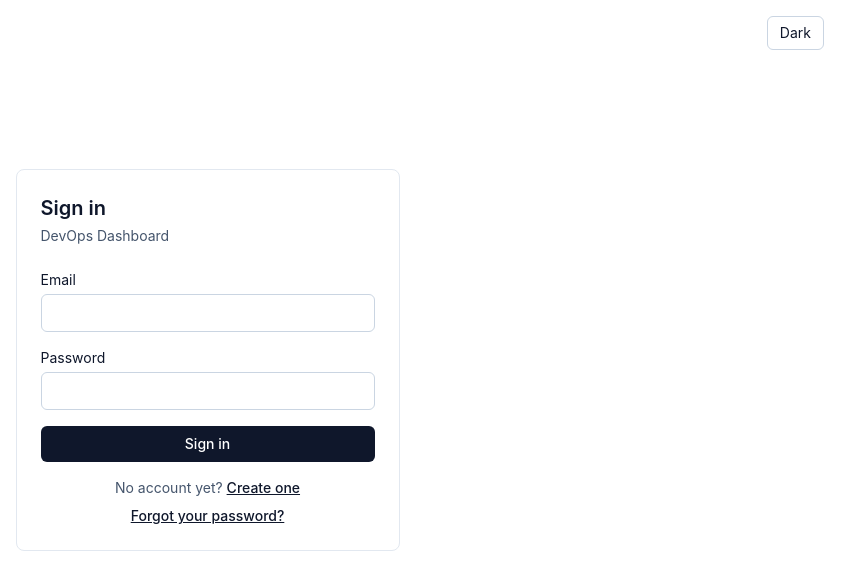
Test: authentication flow › password reset › asks for a reset link from the login page
Click the link "Forgot your password?" at (208, 516), box left=131, top=507, right=284, bottom=524
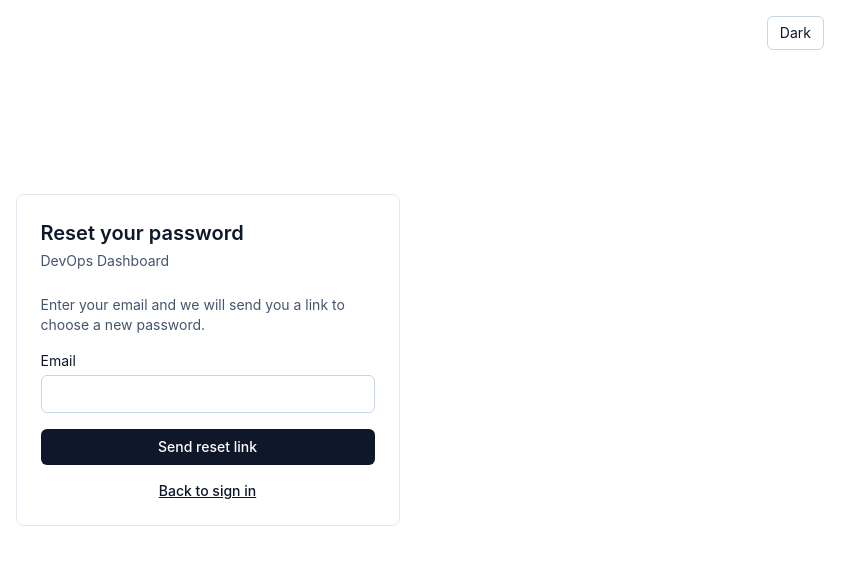
Type "demo@example.com" into the field labelled "Email" at (208, 394), box left=40, top=375, right=374, bottom=413
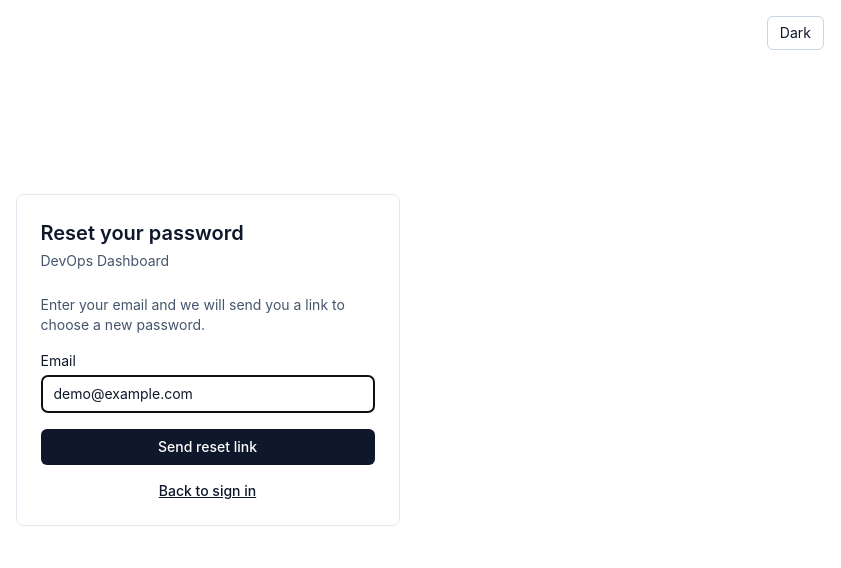
Click the button "Send reset link" at (208, 447), box left=40, top=429, right=374, bottom=465
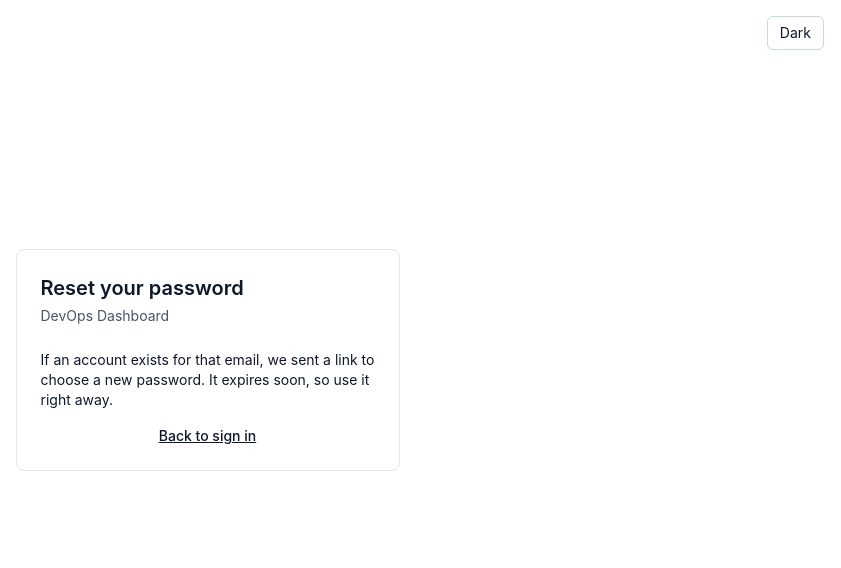
Check: the message shows "If an account exists", box left=40, top=351, right=374, bottom=408
